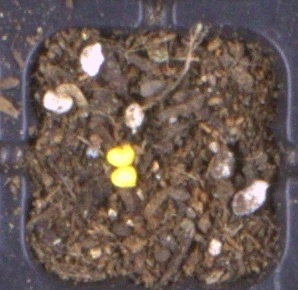chilli seed: (106, 142, 135, 167), (110, 167, 137, 188)
